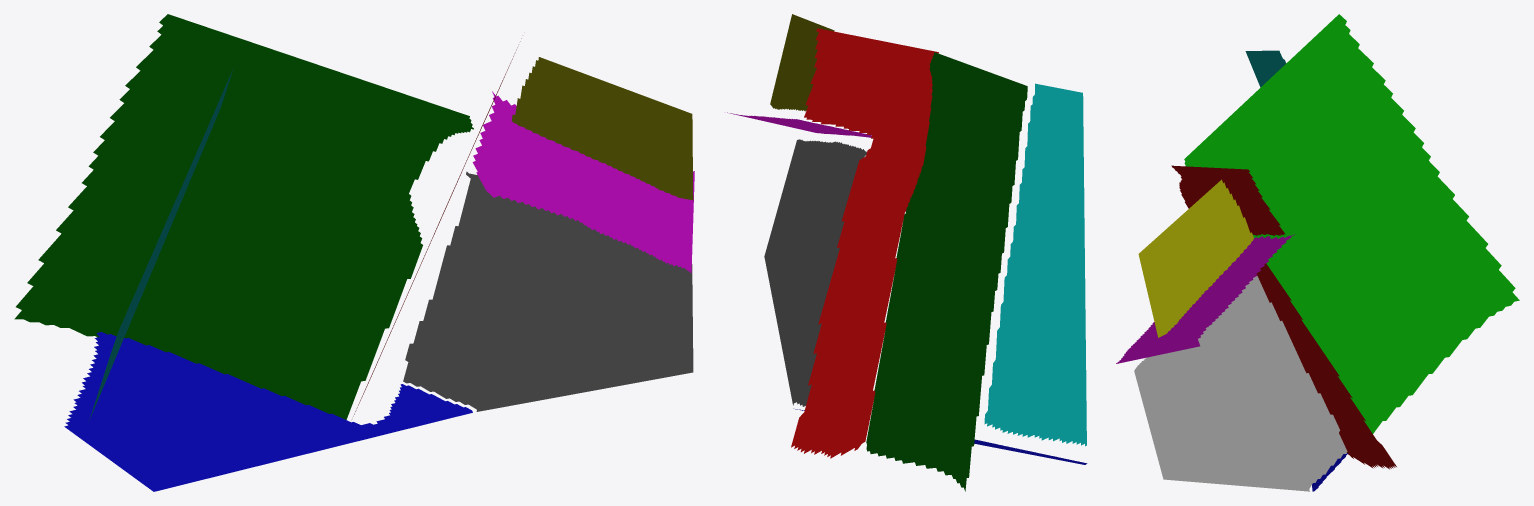
The model's file is 516_seg_predplane.glb.
The picture shows the model from 3 angles, left to right: view 1: azimuth 30°, elevation 25°; view 2: azimuth 150°, elevation 25°; view 3: azimuth 270°, elevation 25°; orthographic projection. The views are drawn at different scales.
Size of the model in its own units: 1.7 by 1.44 by 1.41.
